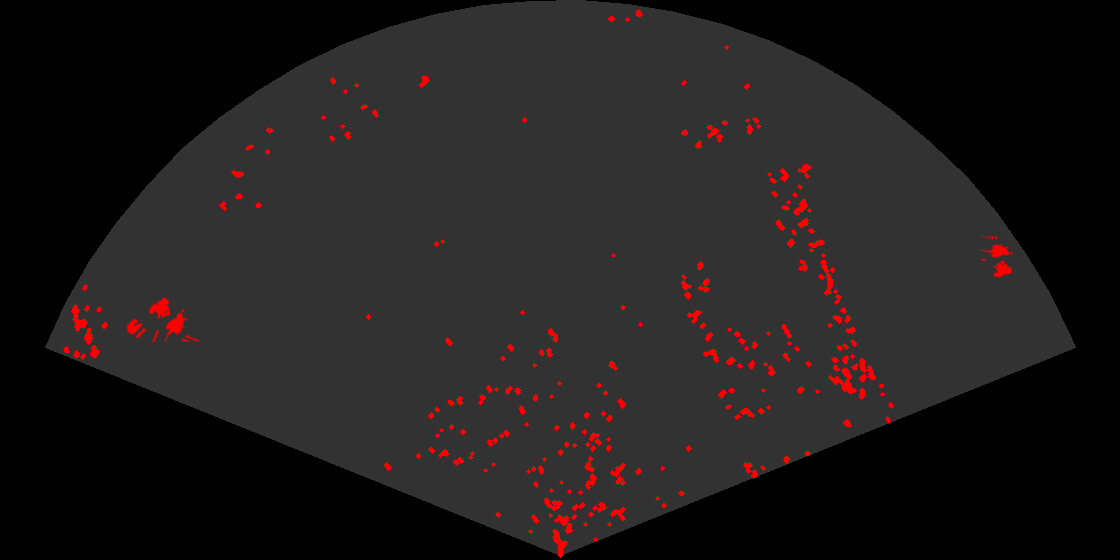ball: (125, 317, 148, 340)
cage: (147, 296, 199, 342), (981, 236, 1015, 279)
